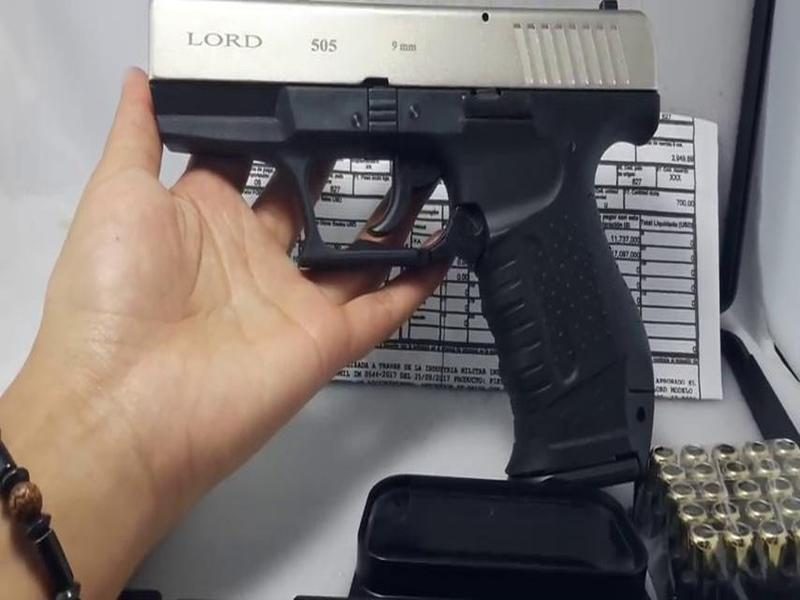Pistola: (107, 1, 695, 494)
